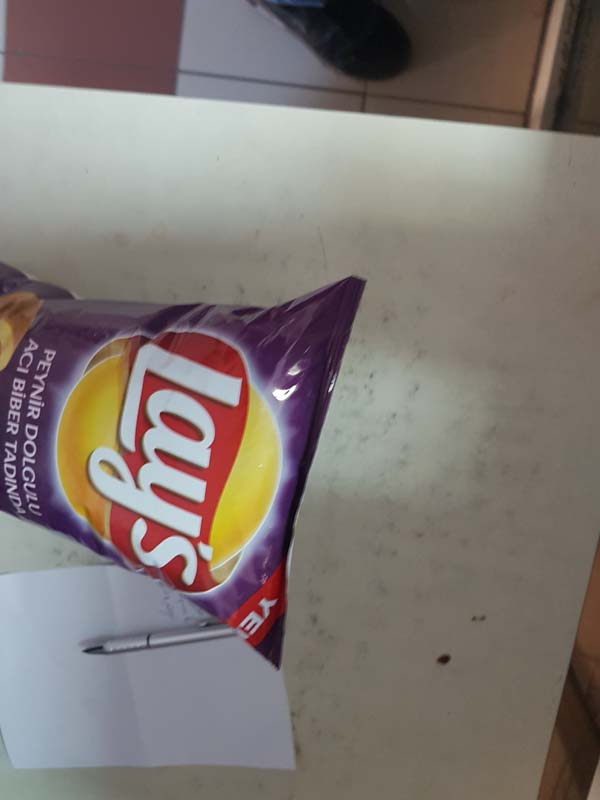layspeynirsoslu: (3, 247, 380, 666)
